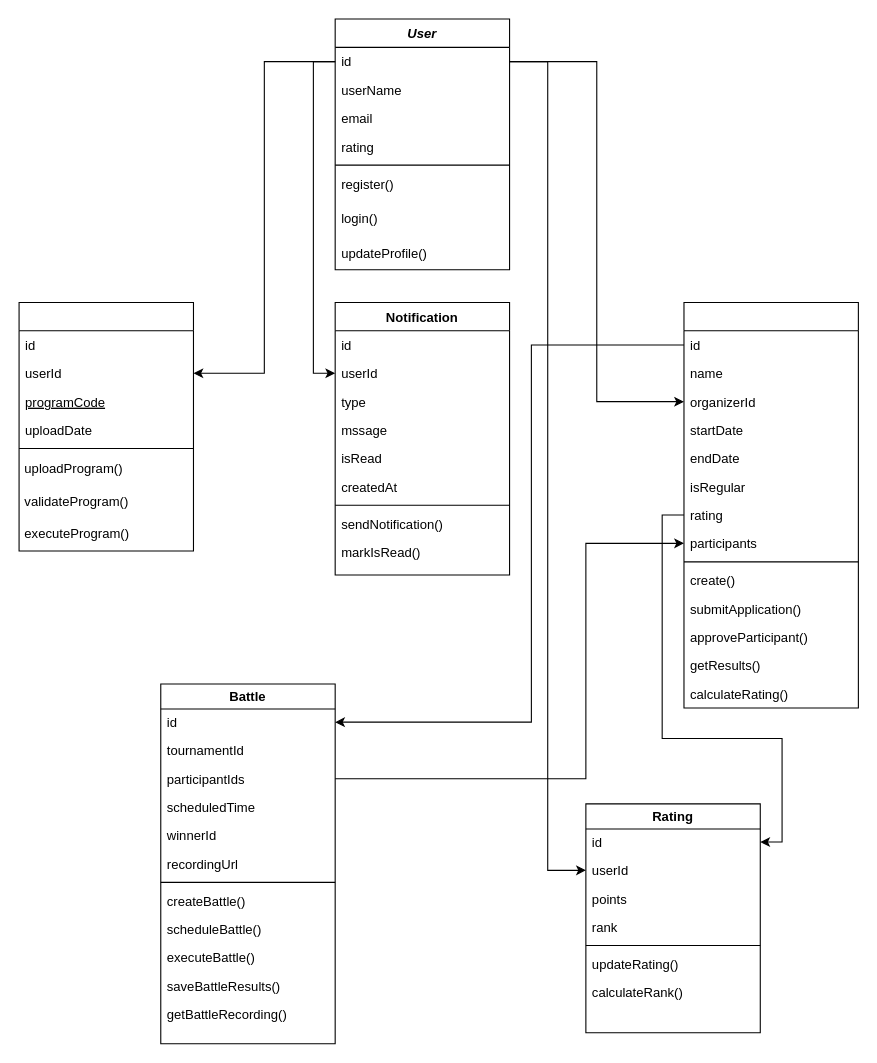
Some shapes in this 877 by 1063 pixel diagram are drawn without their labels. The box of each missing label's shape, as (x1, y1, x2, y2) in pixels:
Agent: (18, 301, 193, 551)
Tournament: (683, 301, 858, 708)
